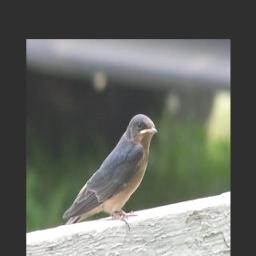Swallow: (61, 113, 158, 231)
